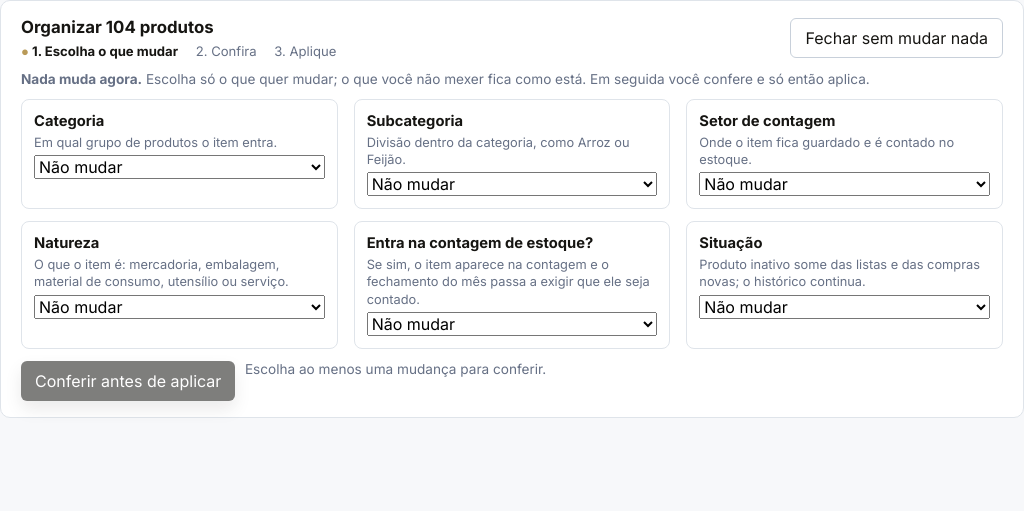
Test case: LoteDeProdutos: passo 2, conferir › sem nada a alterar diz isso e não deixa aplicar
The width and height of the screenshot is (1024, 511).
Select "Ativar" in the dropdown labelled "Situação" at (845, 307), box x1=699 y1=295 x2=990 y2=319
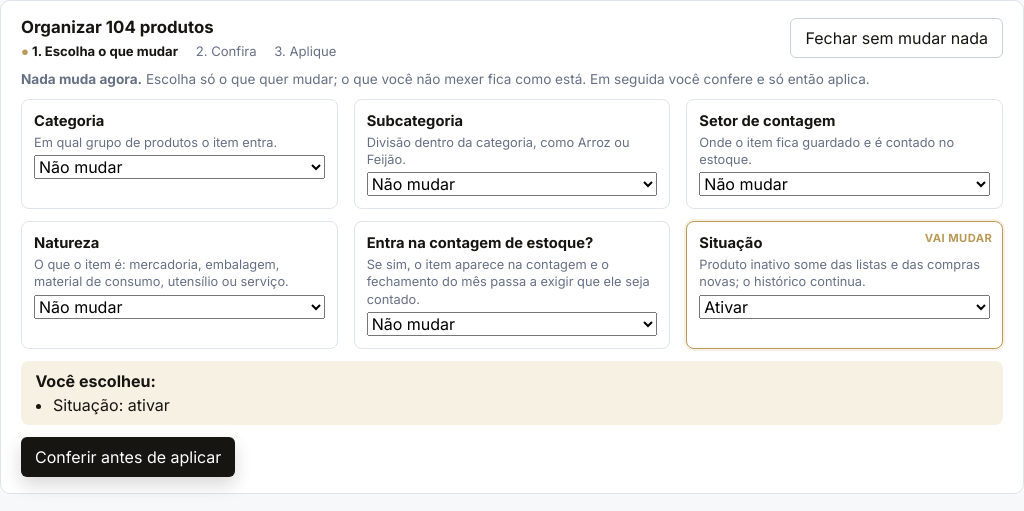
Click the button "Conferir antes de aplicar".
click(128, 457)  # box x1=21 y1=437 x2=235 y2=477
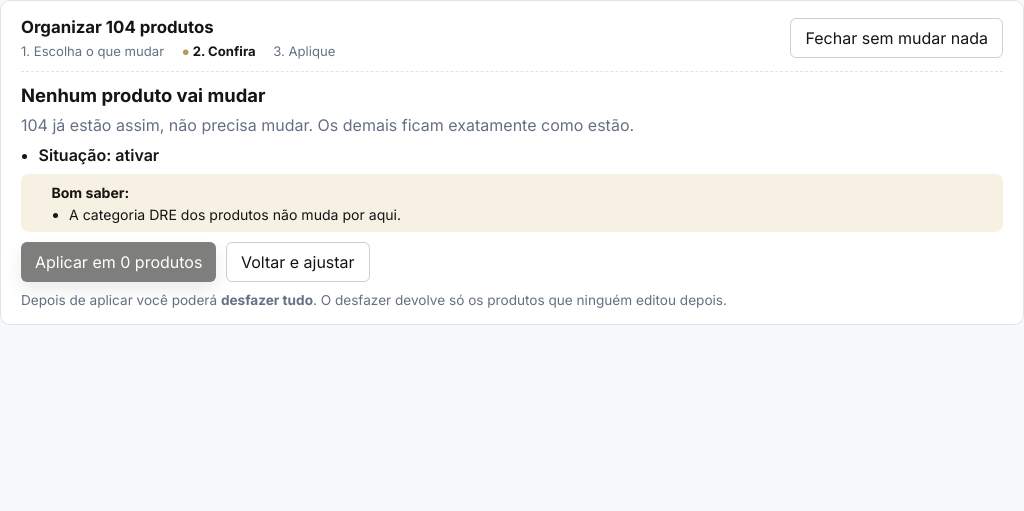
expect the heading "Nenhum produto vai mudar" is shown: met, box x1=21 y1=84 x2=266 y2=106
expect the button "Aplicar em 0 produtos" is disabled: met, box x1=21 y1=242 x2=216 y2=282
